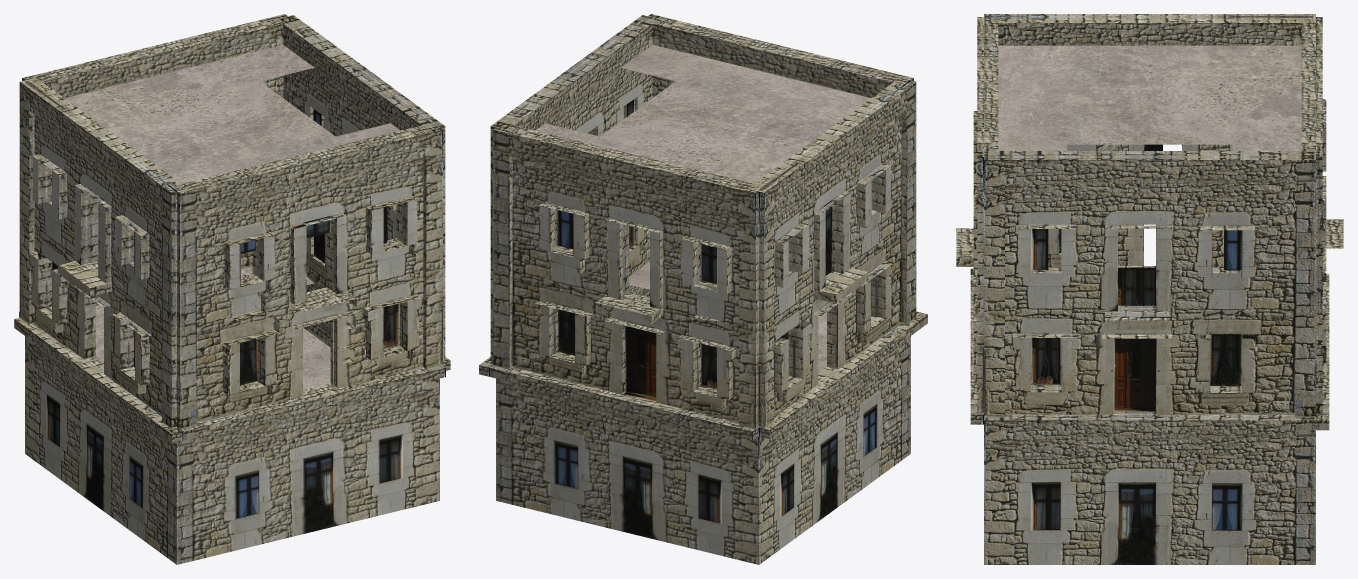
The model's file is BagBuilding14_140.fbx.
3 views of the same model, side by side, from view 1: azimuth 30°, elevation 25°; view 2: azimuth 150°, elevation 25°; view 3: azimuth 270°, elevation 25° (orthographic). The views are drawn at different scales.
Parts seen in each view (by area): view 1: main140, mainFlip140, floors140; view 2: main140, mainFlip140, floors140; view 3: mainFlip140, floors140, main140.
Boxes of the visible parts, x1,y1,x2,y2 form: main140: (19,14,445,564); mainFlip140: (14,15,450,564); floors140: (64,45,399,390); main140: (479,14,927,564); mainFlip140: (480,15,926,564); floors140: (536,45,871,372); mainFlip140: (970,14,1329,564); floors140: (998,45,1301,150); main140: (956,17,1343,430).
Size of the model in its own units: 19.62 by 22.81 by 19.62.
